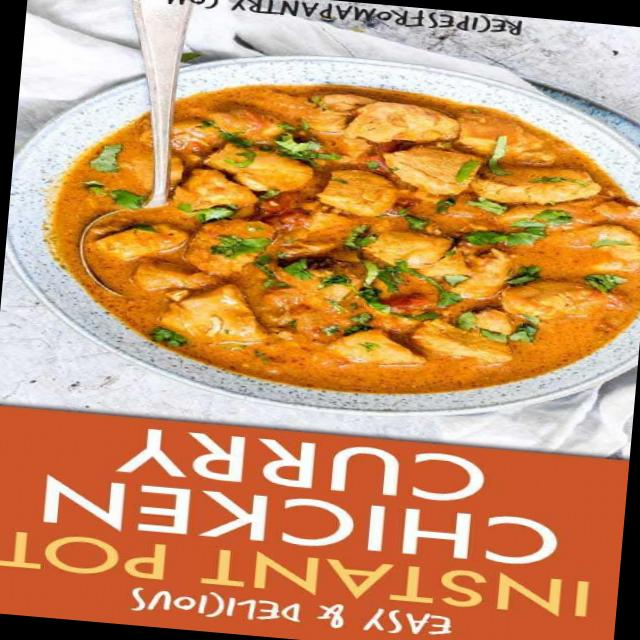chicken: (22, 52, 640, 414)
